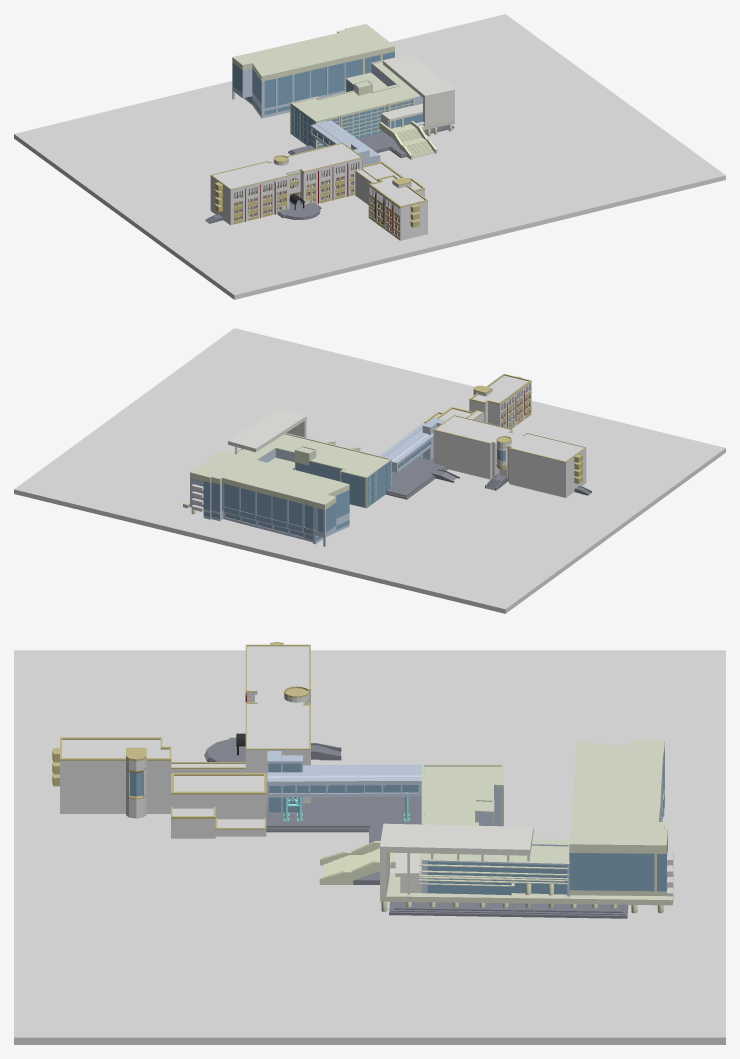
File: art.fbx
3 views of the same model, one above another, from view 1: azimuth 30°, elevation 25°; view 2: azimuth 150°, elevation 25°; view 3: azimuth 270°, elevation 25° (orthographic). The views are drawn at different scales.
Parts seen in each view (by area): view 1: 바닥, Cube.012, Cylinder.009, Cube.006, Cube.014, Cube.019, 격자.004, Cube.016, 계단.001, Cube.005, 격자.001; view 2: 바닥, Cube.012, Cylinder.009, Cube.006, Cube.014; view 3: 바닥, Cube.012, Cube.014, Cylinder.009, Cube.006, Cube.016, Cylinder.006, Cube.019, Cube.005, 계단.001, Cylinder.022.
Part boxes in pixels (x1,y1,x2,y2): 바닥: [14, 14, 725, 299]; Cube.012: [232, 24, 454, 165]; Cylinder.009: [210, 142, 363, 225]; Cube.006: [368, 175, 427, 240]; Cube.014: [288, 121, 454, 159]; Cube.019: [381, 103, 422, 128]; 격자.004: [342, 99, 412, 138]; Cube.016: [363, 161, 424, 197]; 계단.001: [277, 202, 321, 219]; Cube.005: [355, 169, 377, 204]; 격자.001: [272, 161, 300, 205]; 바닥: [14, 328, 725, 613]; Cube.012: [183, 408, 445, 546]; Cylinder.009: [433, 415, 586, 497]; Cube.006: [469, 374, 531, 428]; Cube.014: [325, 440, 447, 503]; 바닥: [14, 650, 725, 1044]; Cube.012: [267, 739, 673, 905]; Cube.014: [266, 796, 628, 918]; Cylinder.009: [245, 642, 310, 803]; Cube.006: [60, 737, 171, 813]; Cube.016: [171, 773, 266, 838]; Cylinder.006: [126, 747, 146, 818]; Cube.019: [395, 853, 421, 892]; Cube.005: [171, 762, 245, 772]; 계단.001: [204, 737, 245, 761]; Cylinder.022: [381, 883, 663, 913].
Bounding box in the file's own units: 15438 × 1432 × 11992.
